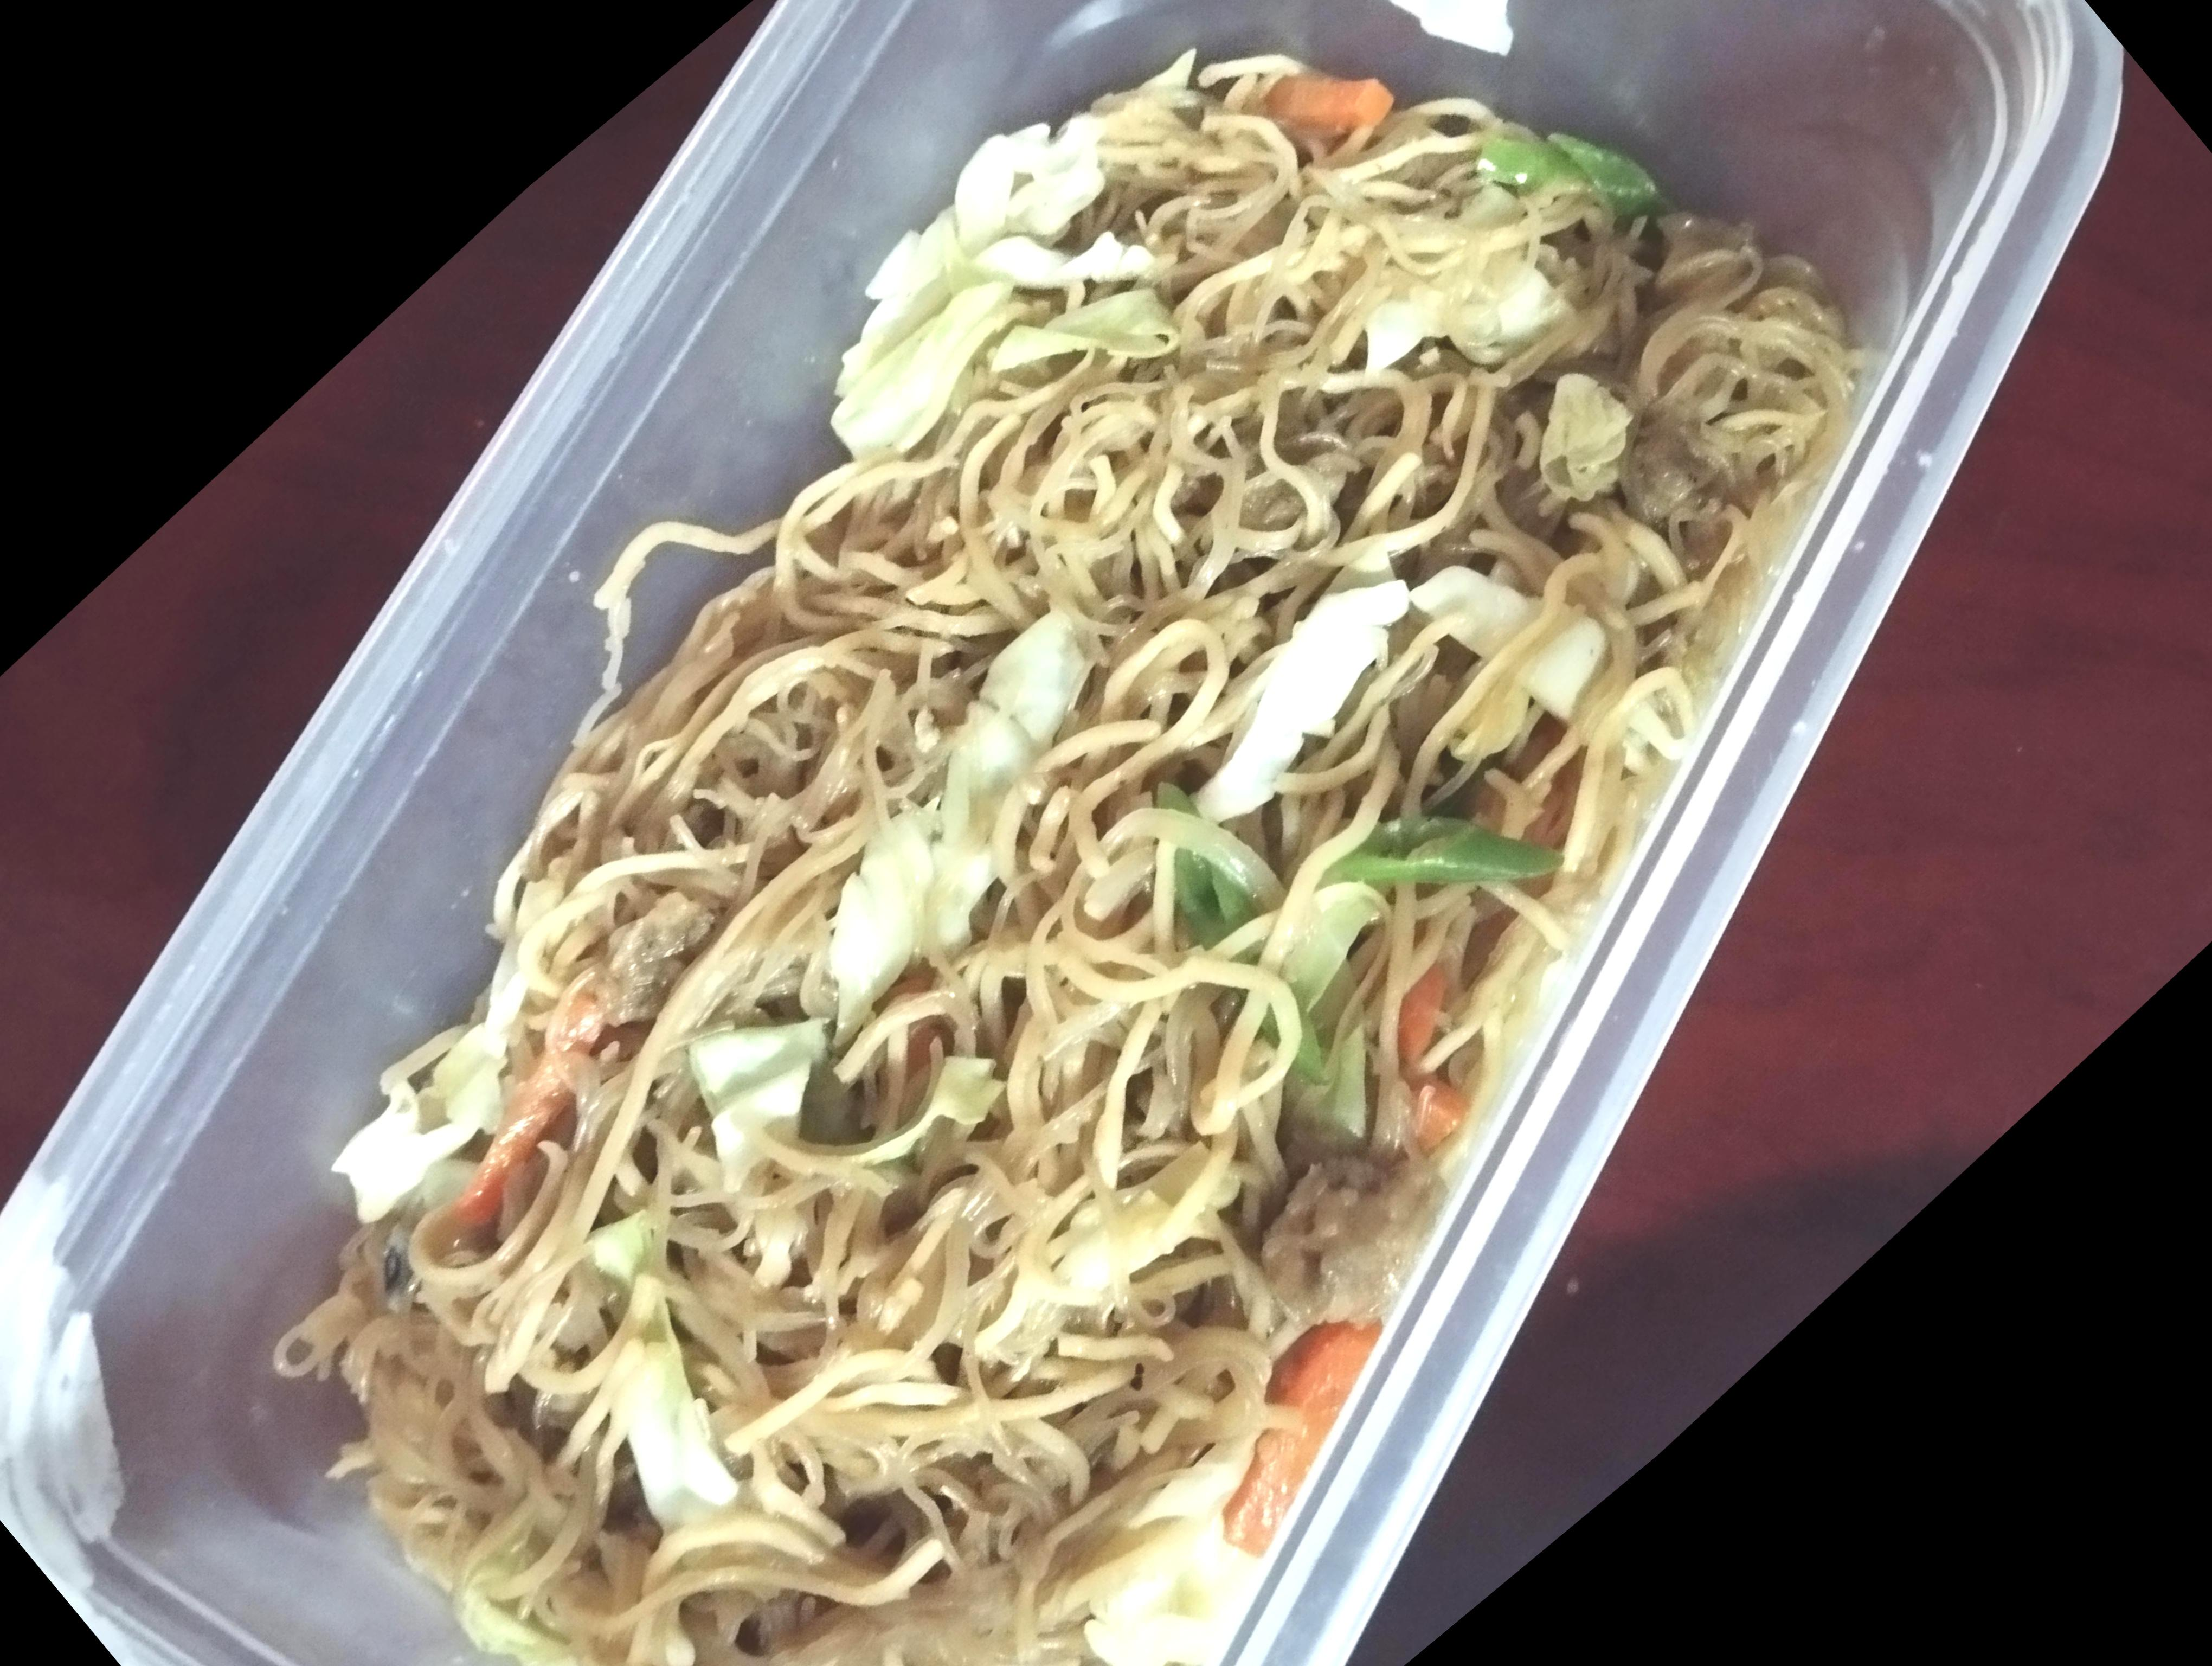pancit bihon: (372, 65, 1857, 1666)
